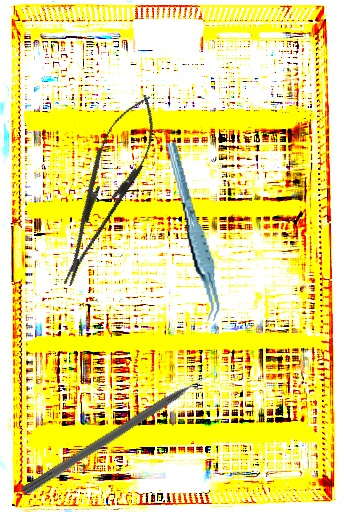Needle Holder: (44, 86, 169, 294)
Pusher: (20, 367, 220, 498)
Tissue Forceps: (164, 139, 224, 324)
